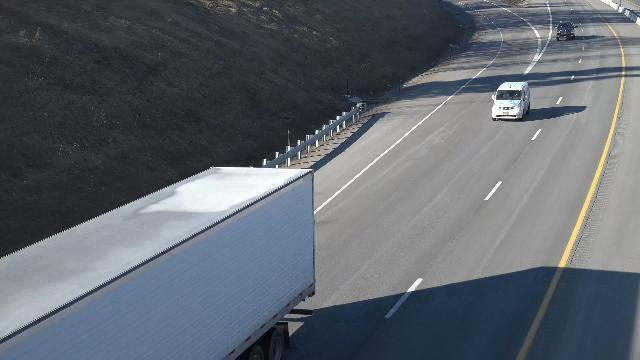car: (554, 20, 579, 42)
truck: (0, 160, 324, 360)
van: (491, 79, 532, 122)
